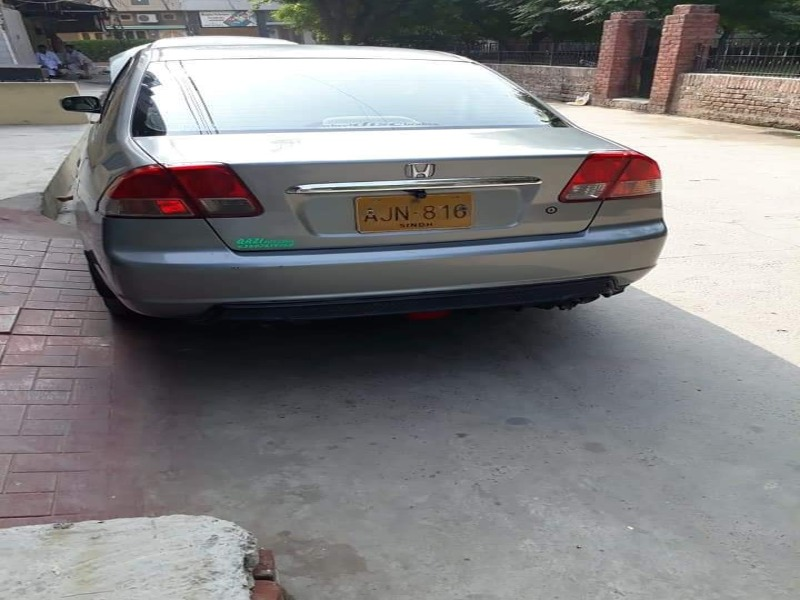License Plate: (352, 190, 479, 237)
